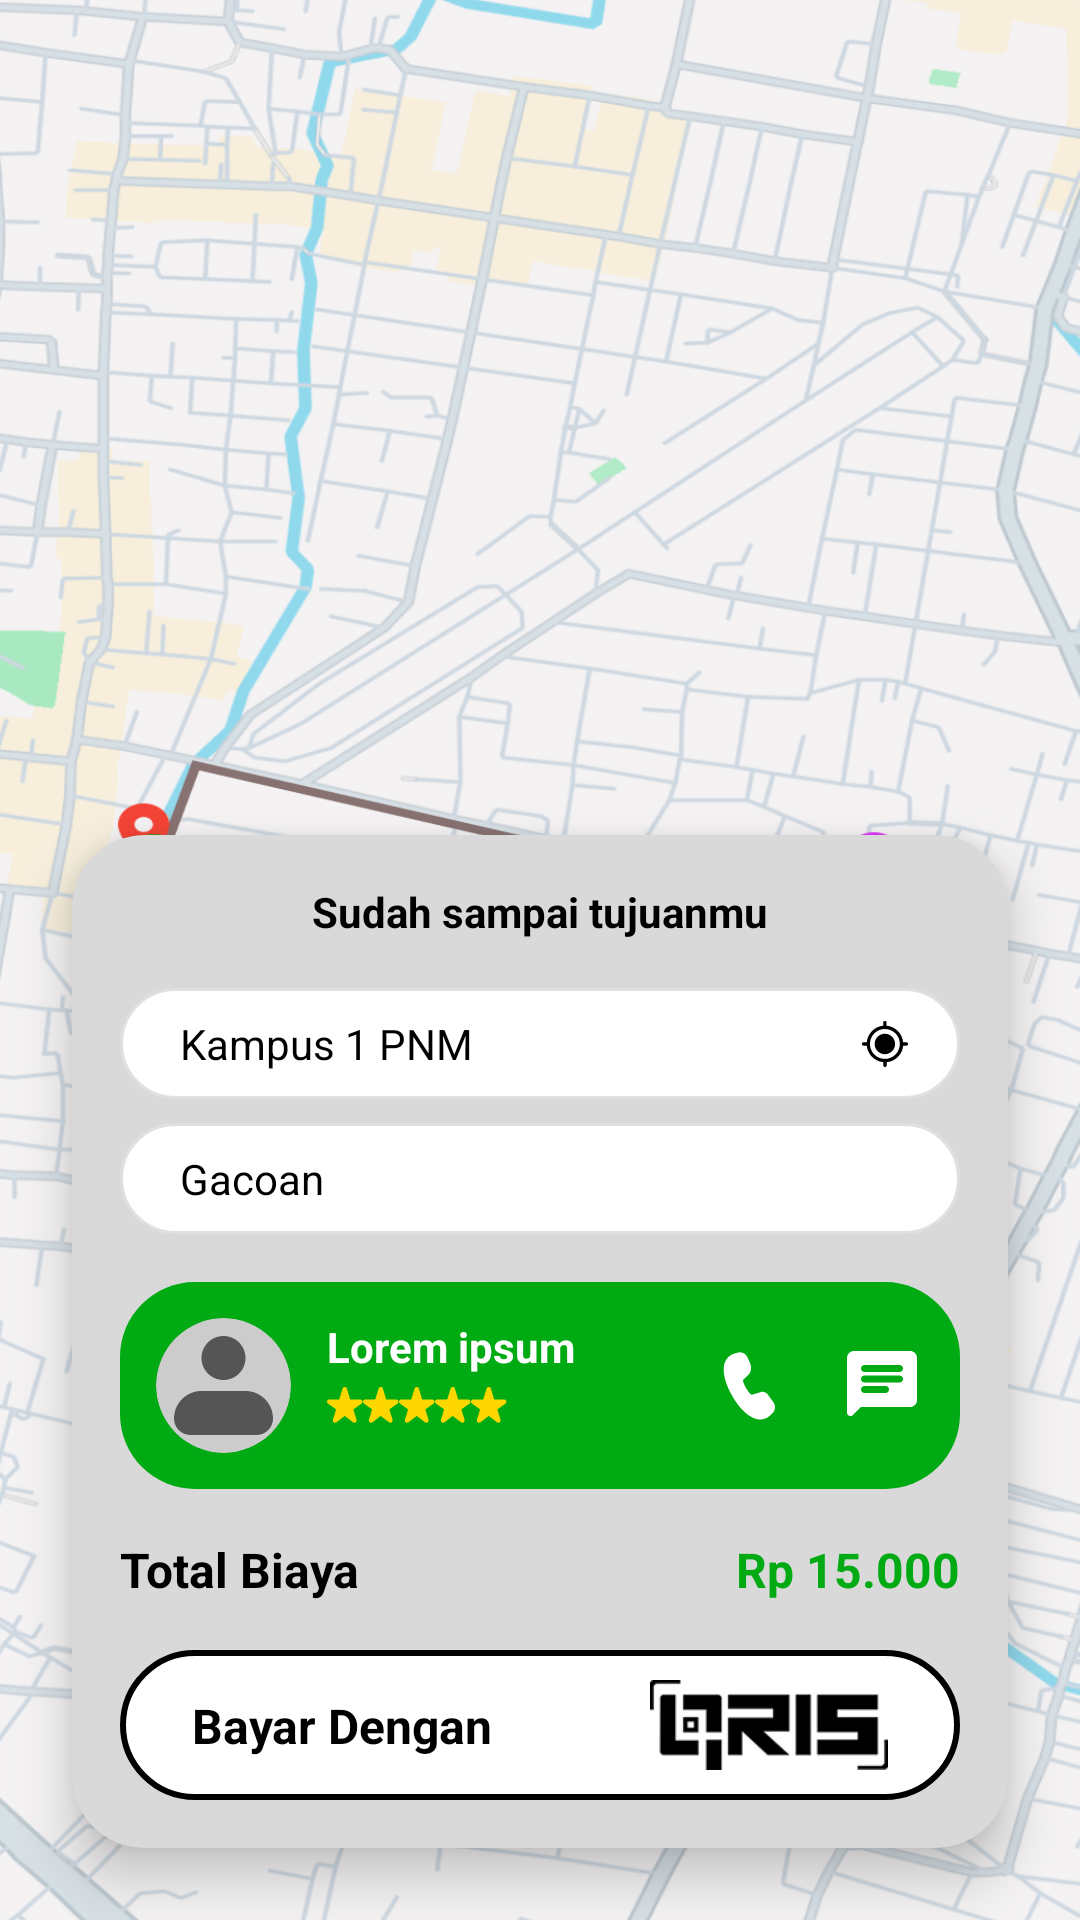

Named icons in this screenshot (1080px×1920px) and their bounding boxes, [left=x1, top=y1, right=x2, bottom=y2]:
bintang: [left=327, top=1387, right=363, bottom=1423], [left=363, top=1387, right=399, bottom=1423], [left=399, top=1387, right=435, bottom=1423], [left=435, top=1387, right=471, bottom=1423], [left=471, top=1387, right=507, bottom=1423]
chat: [left=847, top=1351, right=917, bottom=1416]
Foto Driver: [left=156, top=1318, right=291, bottom=1453]
Ikon Titik Jemput: [left=862, top=1021, right=908, bottom=1067]
telepon: [left=723, top=1352, right=775, bottom=1420]
